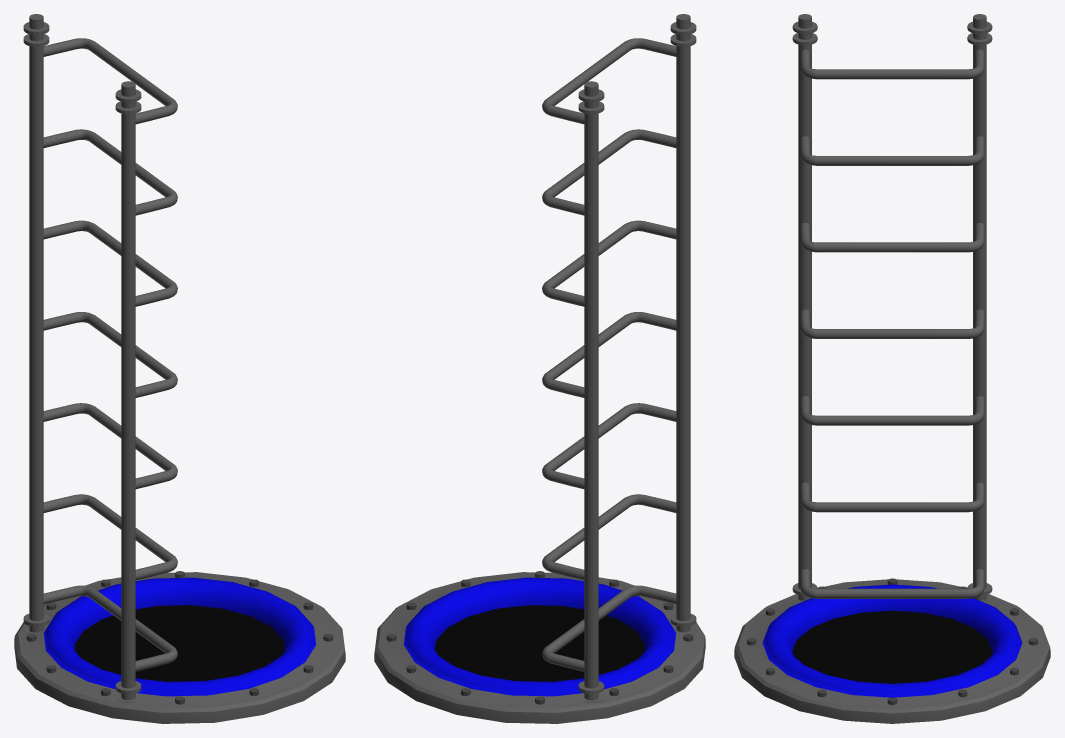
Rendered from IndustrialLadder.fbx.
3 renders of one model, left to right at view 1: azimuth 30°, elevation 25°; view 2: azimuth 150°, elevation 25°; view 3: azimuth 270°, elevation 25°, orthographic. The views are drawn at different scales.
Visible parts, largest first — view 1: IndustrialLadder; view 2: IndustrialLadder; view 3: IndustrialLadder.
Part boxes in pixels (bbox=[...]): IndustrialLadder: bbox=[14, 14, 345, 723]; IndustrialLadder: bbox=[374, 14, 705, 723]; IndustrialLadder: bbox=[734, 14, 1050, 723].
Bounding box in the file's own units: 5.8 × 12.03 × 5.8.
